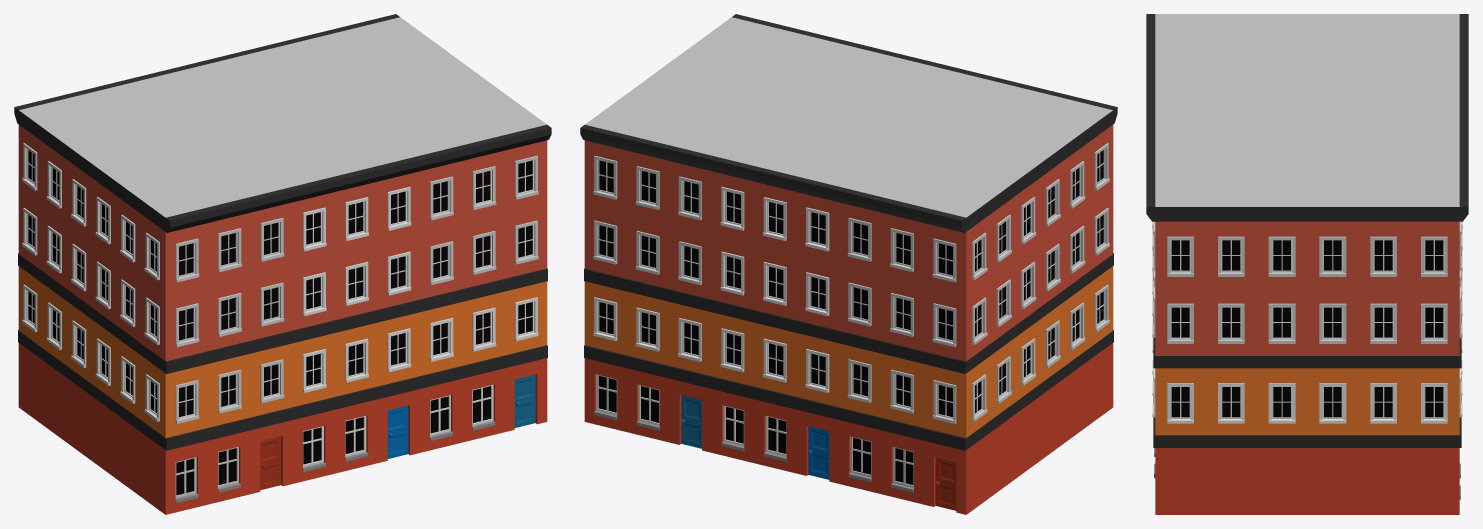
The model's file is Classical-02.fbx.
The picture shows the model from 3 angles, left to right: view 1: azimuth 30°, elevation 25°; view 2: azimuth 150°, elevation 25°; view 3: azimuth 270°, elevation 25°; orthographic projection. The views are drawn at different scales.
Parts seen in each view (by area): view 1: Building; view 2: Building; view 3: Building.
Boxes of the visible parts, x1,y1,x2,y2 form: Building: (14, 14, 551, 514); Building: (580, 14, 1117, 514); Building: (1146, 14, 1468, 514).
Size of what is drawn, in the model's own units: 18.23 by 13.4 by 12.7.
